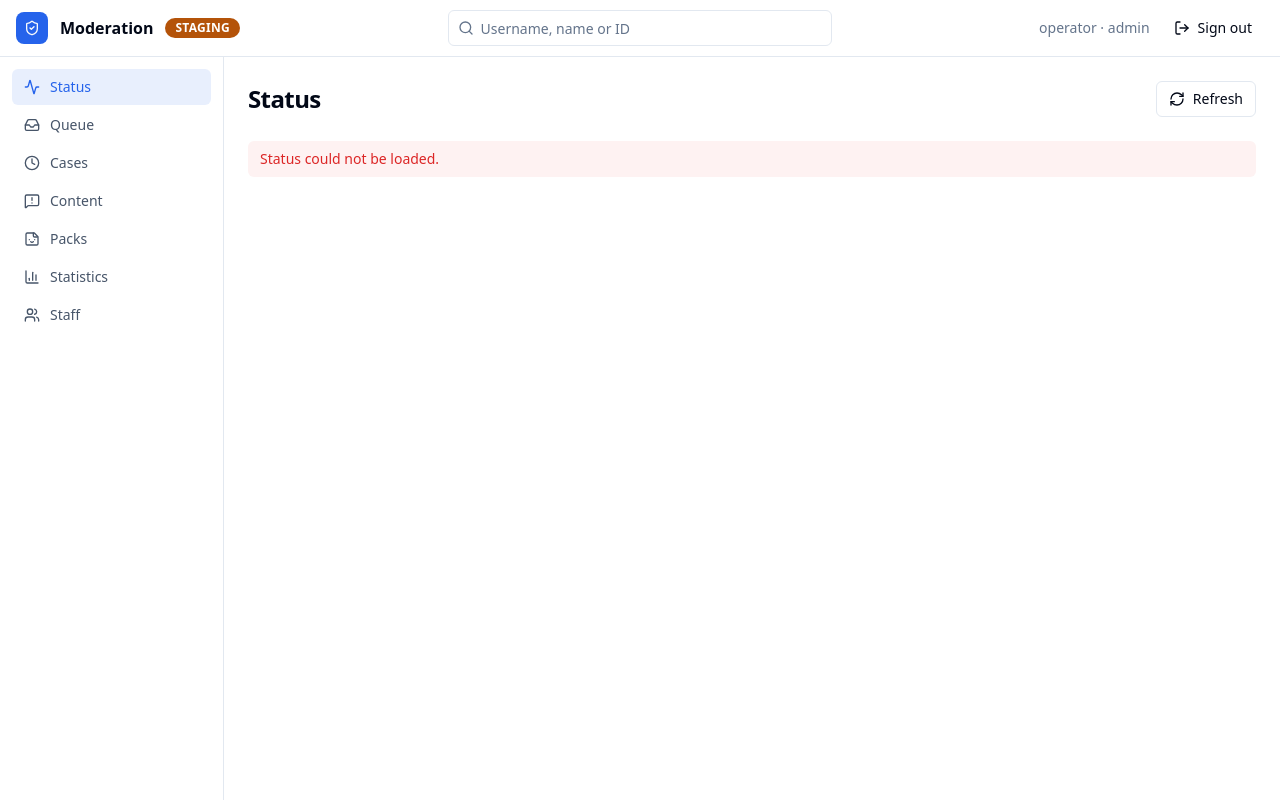
it: App › signs out
Click the button "Sign out".
click(1213, 28)  # box [1162,10,1264,46]
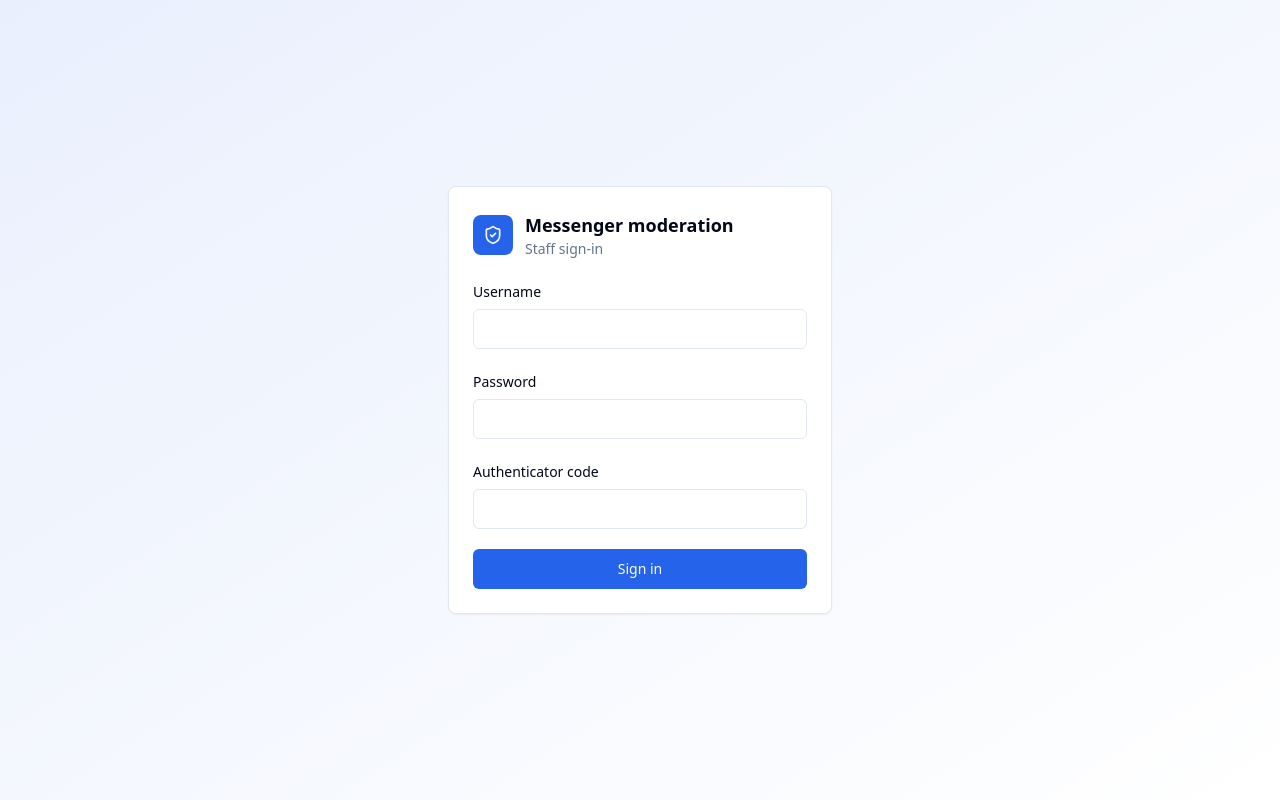
Result: the button "Sign in" is shown at [473,549,807,589]
